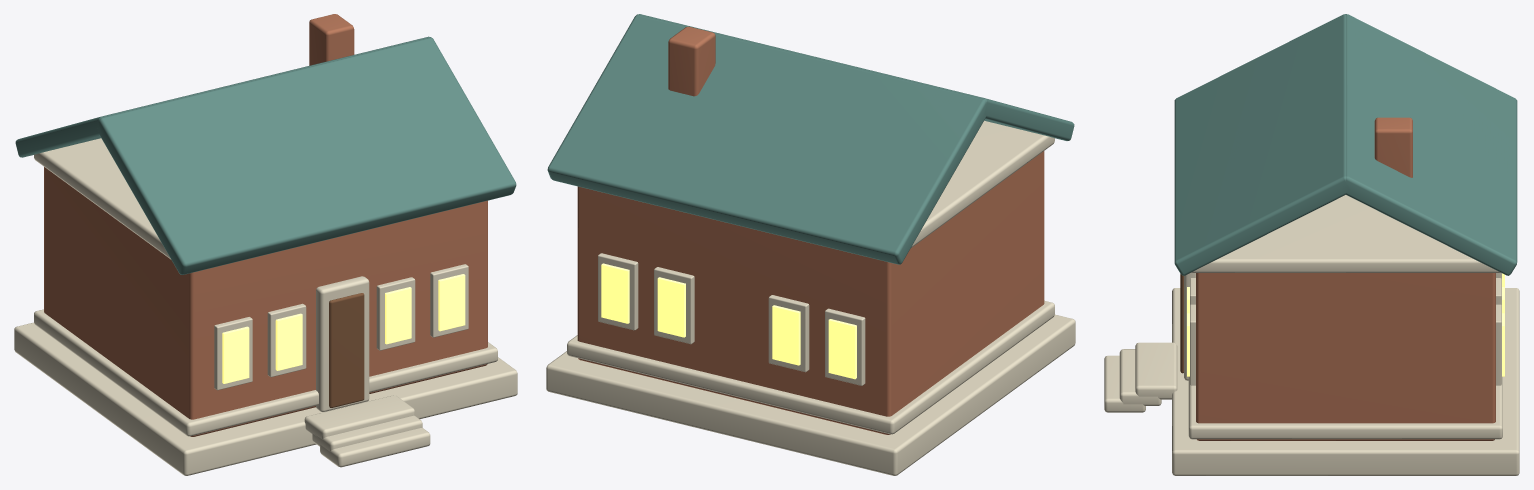
File: SM_Hall_Campus.fbx
The picture shows the model from 3 angles, left to right: view 1: azimuth 30°, elevation 25°; view 2: azimuth 150°, elevation 25°; view 3: azimuth 270°, elevation 25°; orthographic projection. The views are drawn at different scales.
Parts seen in each view (by area): view 1: SM_Hall_Campus; view 2: SM_Hall_Campus; view 3: SM_Hall_Campus.
Boxes of the visible parts, bbox=[...] form: SM_Hall_Campus: bbox=[14, 14, 517, 475]; SM_Hall_Campus: bbox=[546, 14, 1075, 475]; SM_Hall_Campus: bbox=[1104, 14, 1519, 475].
Size of the model in its own units: 325 by 347 by 290.
